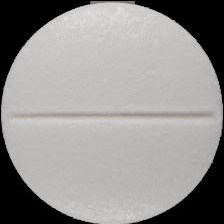21695-122: (0, 0, 224, 224)
